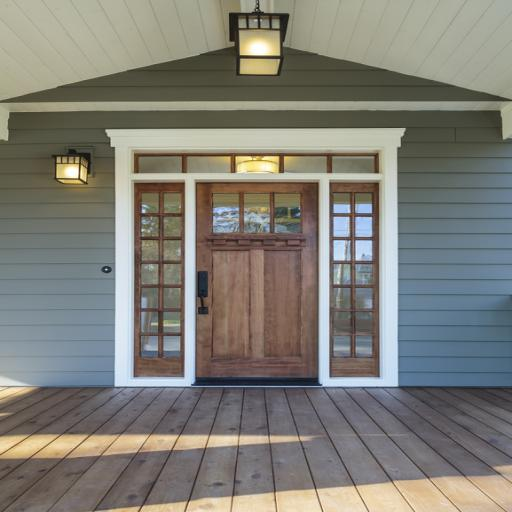Door: (195, 182, 319, 379)
